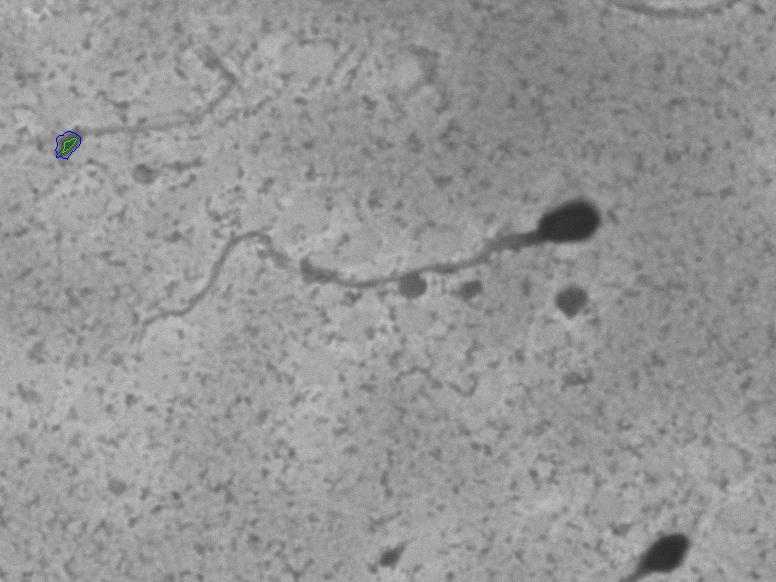Abnormal: (124, 152, 640, 354)
